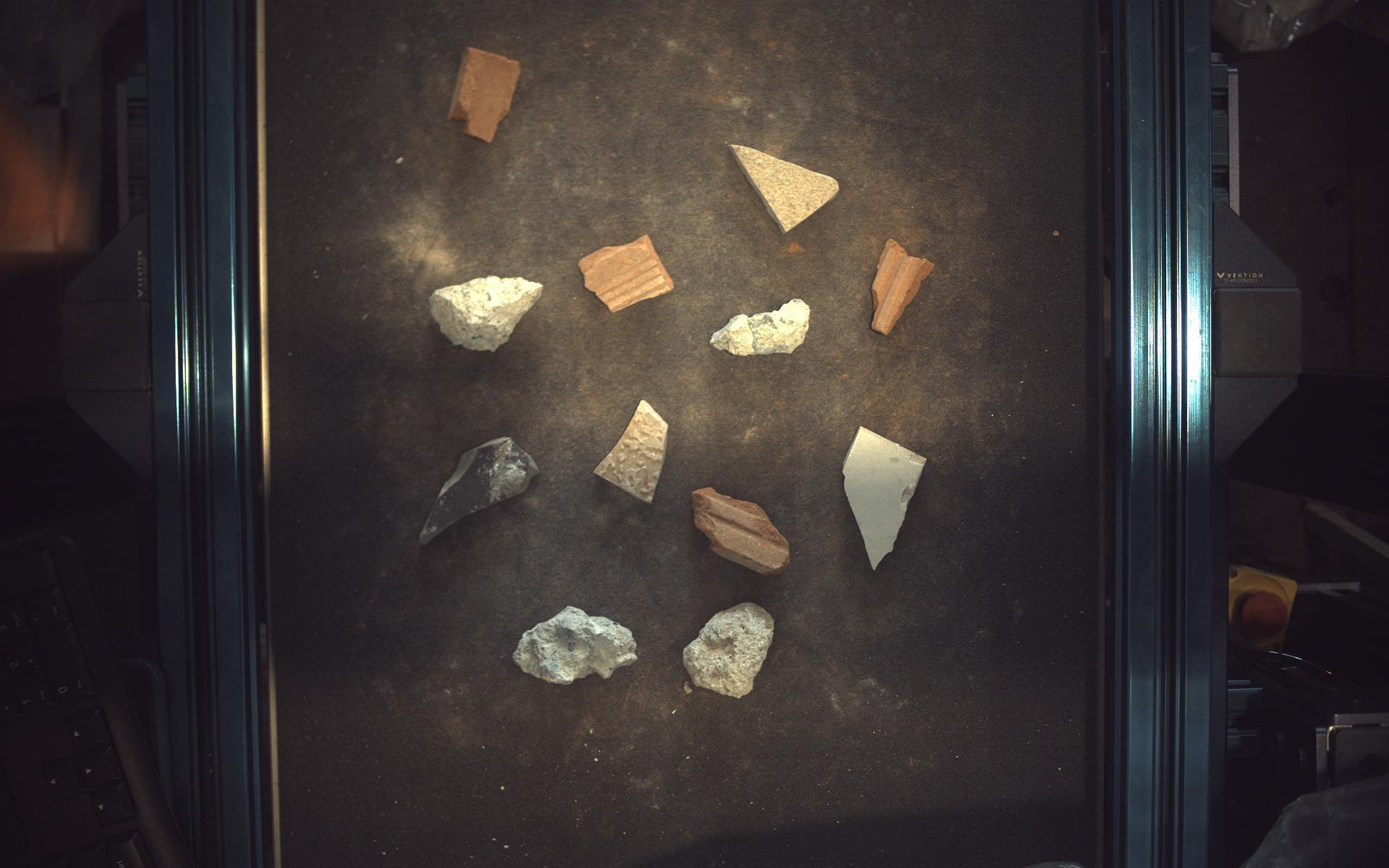brick: (692, 488, 791, 576), (579, 234, 674, 312), (448, 46, 521, 141), (873, 238, 936, 334)
concrete: (514, 607, 638, 685), (429, 275, 543, 352), (684, 603, 775, 699), (711, 298, 810, 356)
tile: (420, 437, 539, 545), (845, 427, 928, 570), (731, 142, 840, 232), (595, 400, 669, 503)
